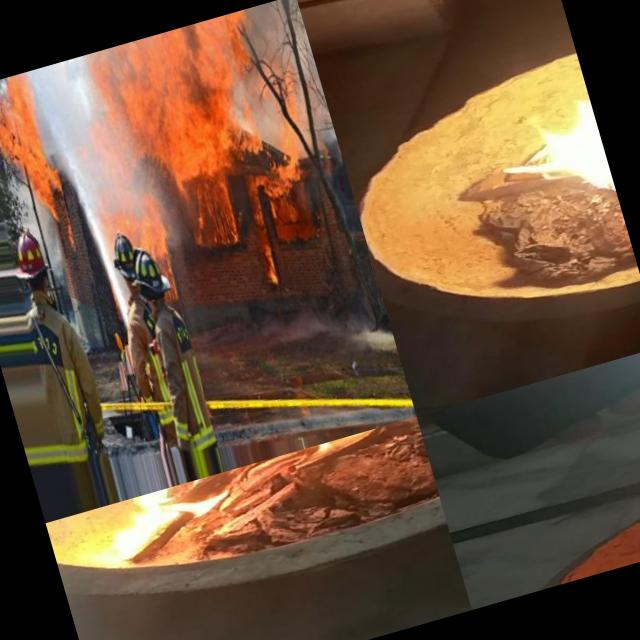fire: (90, 422, 413, 575), (83, 10, 280, 192), (492, 52, 622, 239), (230, 65, 328, 208), (0, 71, 67, 230), (172, 164, 247, 254), (243, 180, 286, 294), (122, 192, 168, 256), (594, 512, 640, 572)
smoke: (240, 0, 313, 76)
